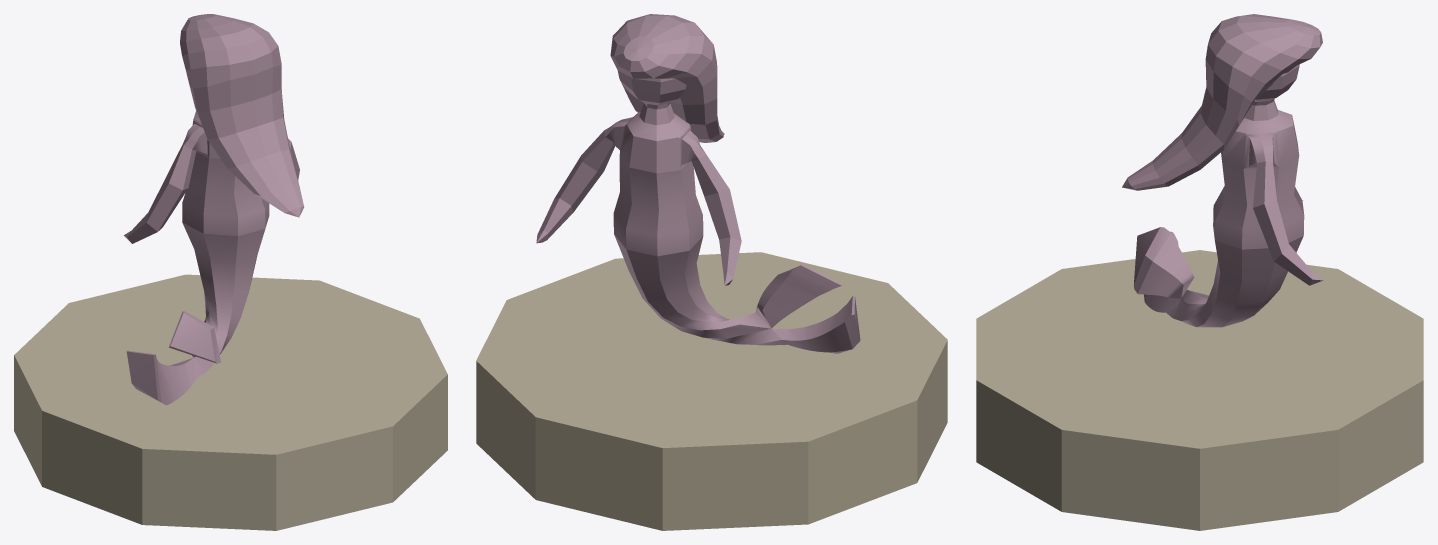
The model's file is SirenFBX.fbx.
The picture shows the model from 3 angles, left to right: view 1: azimuth 30°, elevation 25°; view 2: azimuth 150°, elevation 25°; view 3: azimuth 270°, elevation 25°; orthographic projection. The views are drawn at different scales.
Parts seen in each view (by area): view 1: ficha_sirena; view 2: ficha_sirena; view 3: ficha_sirena.
Part boxes in pixels (x1,y1,x2,y2): ficha_sirena: (14, 14, 447, 530); ficha_sirena: (476, 14, 947, 530); ficha_sirena: (976, 14, 1423, 530).
Bounding box in the file's own units: 0.7462 × 0.7376 × 0.7097.
